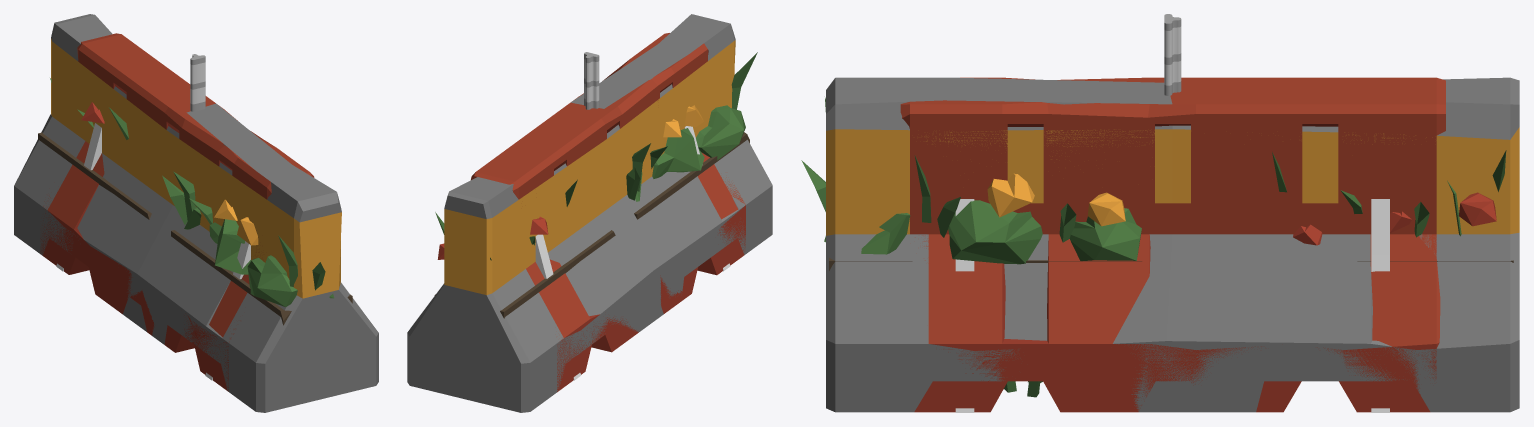
File: dividers.glb
The picture shows the model from 3 angles, left to right: view 1: azimuth 30°, elevation 25°; view 2: azimuth 150°, elevation 25°; view 3: azimuth 270°, elevation 25°; orthographic projection. The views are drawn at different scales.
Parts seen in each view (by area): view 1: jersey-barrier-concrete, jersey-barrier-plastic, planter-box, barricade, bollard; view 2: jersey-barrier-concrete, jersey-barrier-plastic, planter-box, bollard, barricade; view 3: jersey-barrier-concrete, jersey-barrier-plastic, planter-box, barricade, bollard.
Part boxes in pixels (x1=…): jersey-barrier-concrete: x1=14, y1=14, x2=378, y2=412; jersey-barrier-plastic: x1=40, y1=33, x2=314, y2=391; planter-box: x1=38, y1=78, x2=352, y2=325; barricade: x1=56, y1=123, x2=250, y2=380; bollard: x1=190, y1=54, x2=205, y2=111; jersey-barrier-concrete: x1=407, y1=14, x2=772, y2=412; jersey-barrier-plastic: x1=471, y1=33, x2=745, y2=392; planter-box: x1=434, y1=52, x2=757, y2=318; bollard: x1=584, y1=52, x2=599, y2=109; barricade: x1=535, y1=126, x2=730, y2=380; jersey-barrier-concrete: x1=826, y1=77, x2=1519, y2=412; jersey-barrier-plastic: x1=900, y1=77, x2=1445, y2=412; planter-box: x1=801, y1=97, x2=1513, y2=270; barricade: x1=955, y1=199, x2=1389, y2=412; bollard: x1=1164, y1=14, x2=1181, y2=95.
Size of the model in its own units: 0.664 by 1.28 by 2.37.
1 material, 1 textured.
